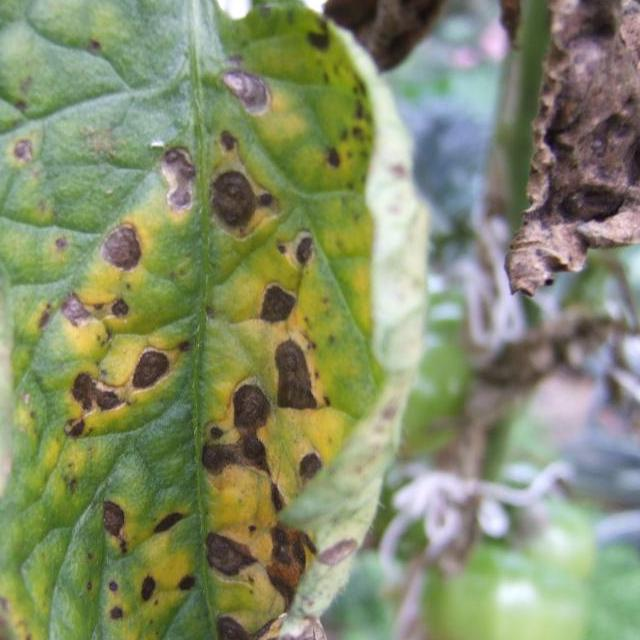Tomato Early blight leaf: (0, 5, 389, 640)
